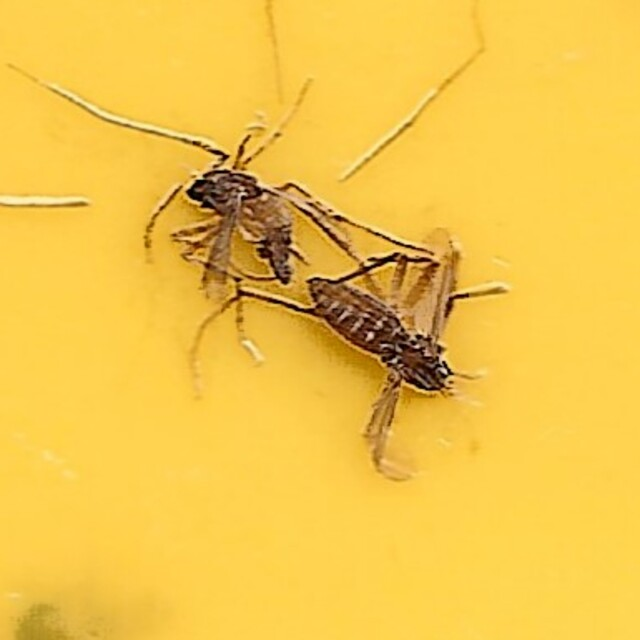Nematocera: (289, 226, 474, 485), (166, 155, 299, 298)
